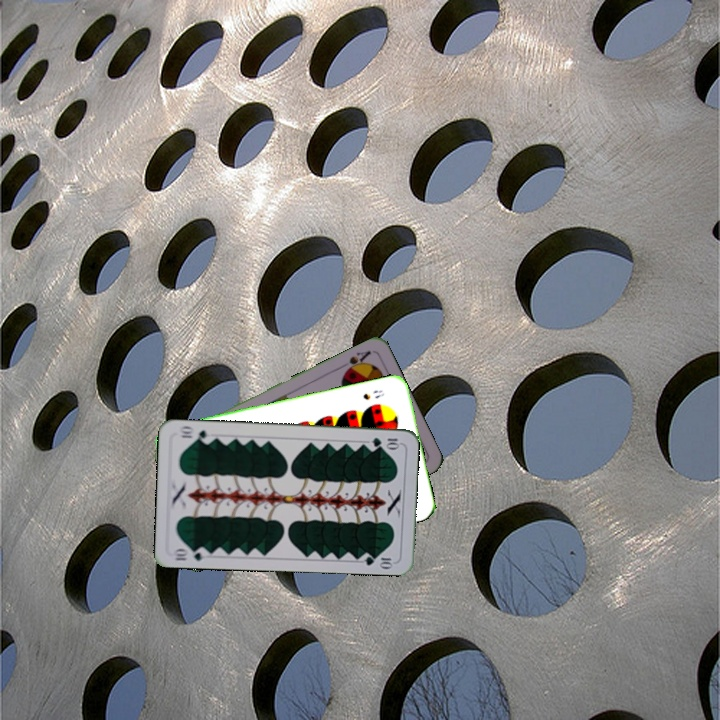G10: (169, 544, 210, 563), (368, 434, 402, 450)
S8: (359, 386, 387, 402)
SA: (336, 347, 374, 376)
